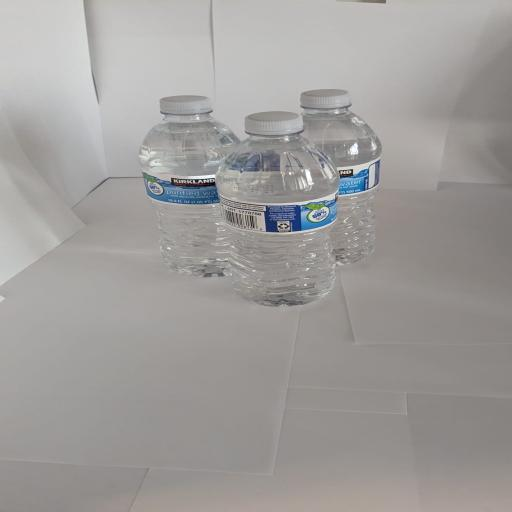waterbottle: (217, 112, 339, 305), (140, 96, 238, 276), (301, 90, 381, 264)
